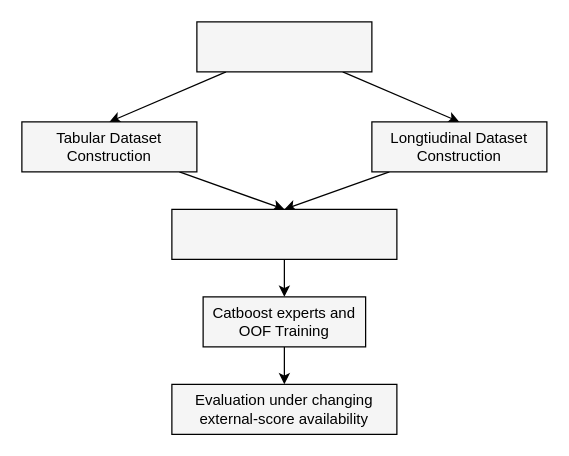
This 569x456 diagram has some shape labels left out. The centre of each missing label's shape, as x and y in pixels:
Home Credit Data: (284,46)
Preliminary Model Screening: (284,233)
